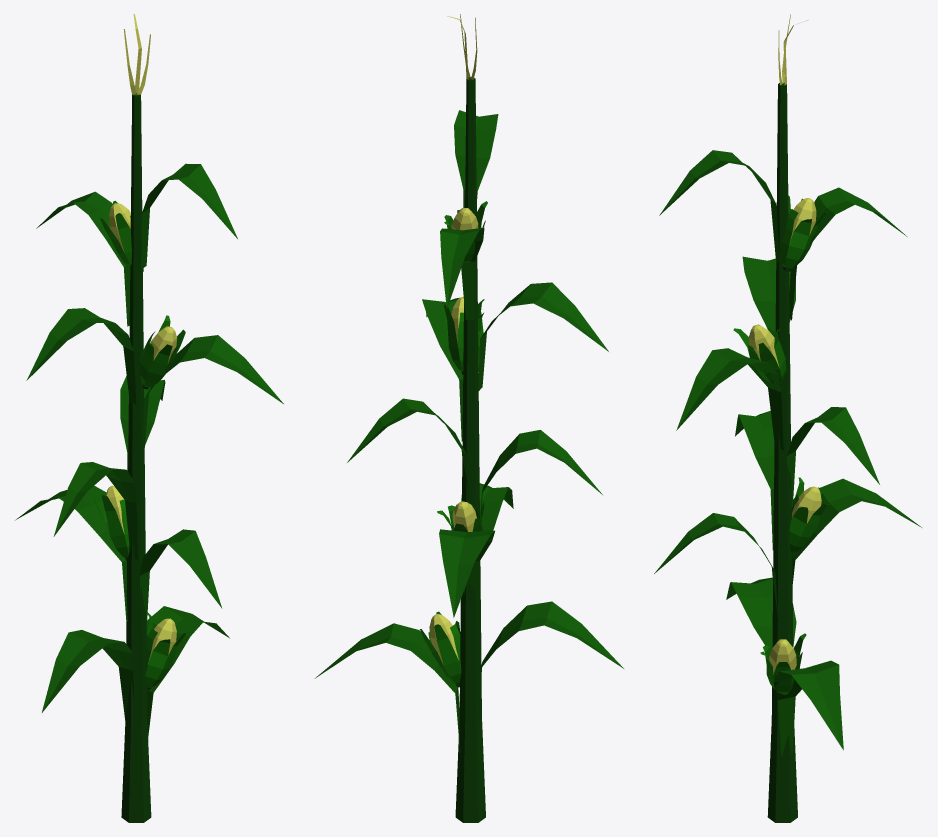
The model's file is CornPlant.fbx.
3 renders of one model, left to right at view 1: azimuth 30°, elevation 25°; view 2: azimuth 150°, elevation 25°; view 3: azimuth 270°, elevation 25°, orthographic. The views are drawn at different scales.
Visible parts, largest first — view 1: CornPlant; view 2: CornPlant; view 3: CornPlant.
Boxes of the visible parts, <box> form: CornPlant: <box>15,14,283,822</box>; CornPlant: <box>314,14,623,822</box>; CornPlant: <box>654,14,921,822</box>.
Bounding box in the file's own units: 0.7051 × 2.15 × 0.6586.
